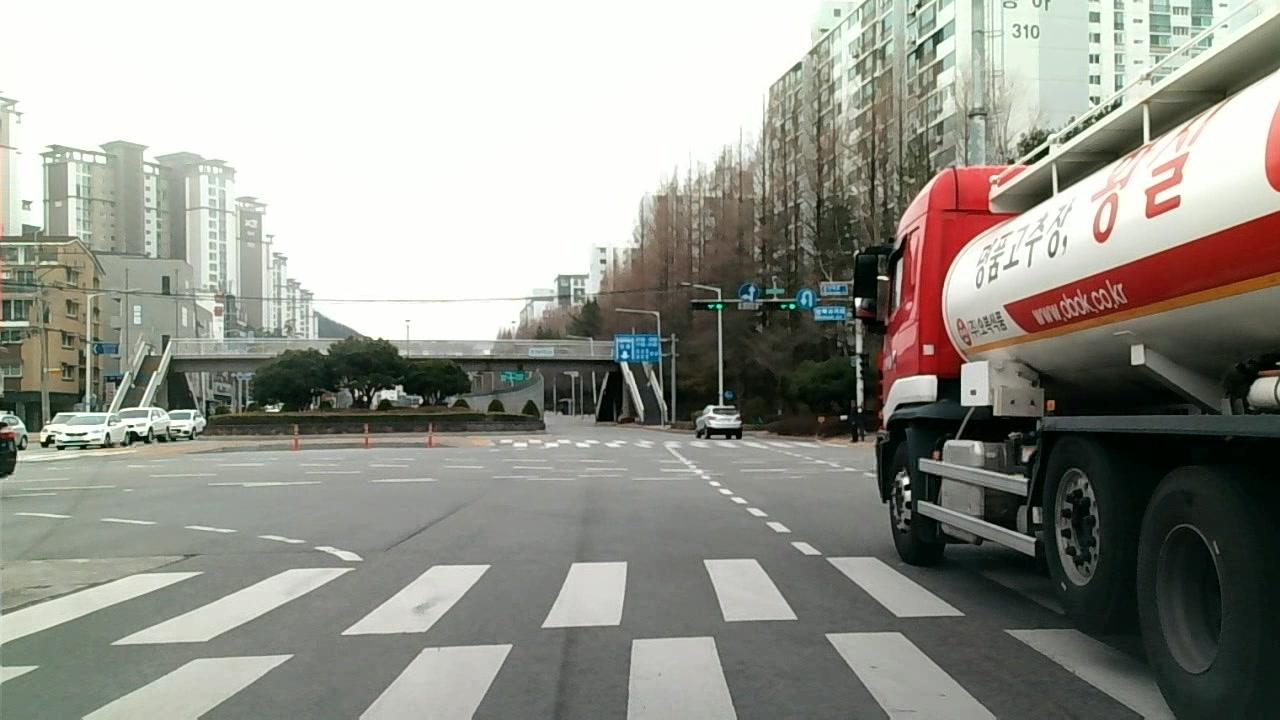banner: (381, 496, 480, 556), (75, 552, 190, 595), (2, 583, 70, 627)
